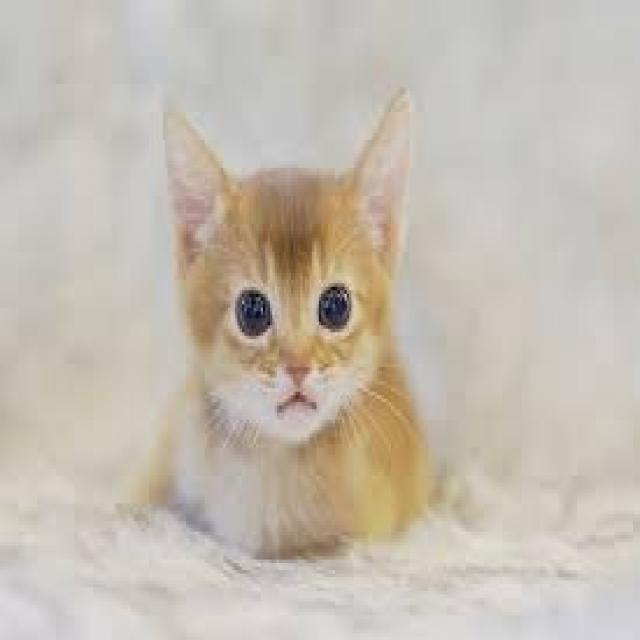cat-face: (130, 81, 449, 502)
